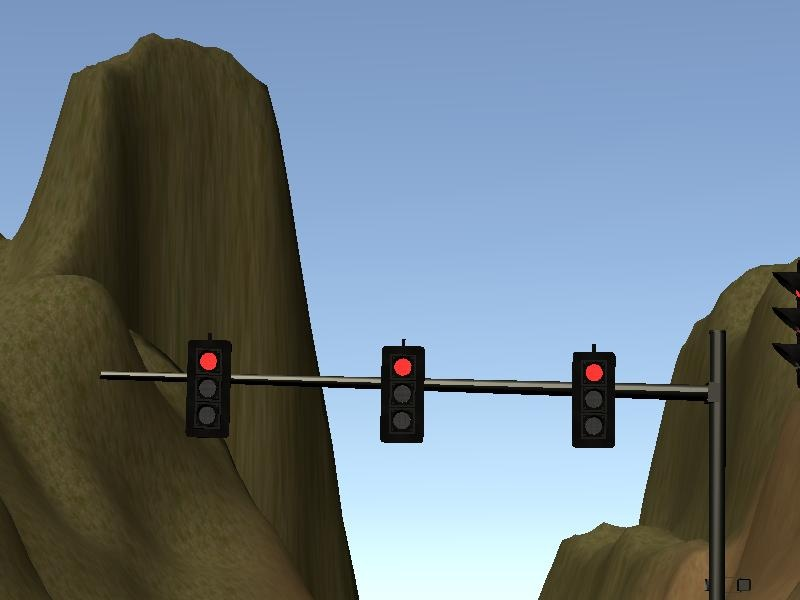RED: (571, 352, 617, 448), (379, 344, 423, 444), (187, 339, 231, 439)
